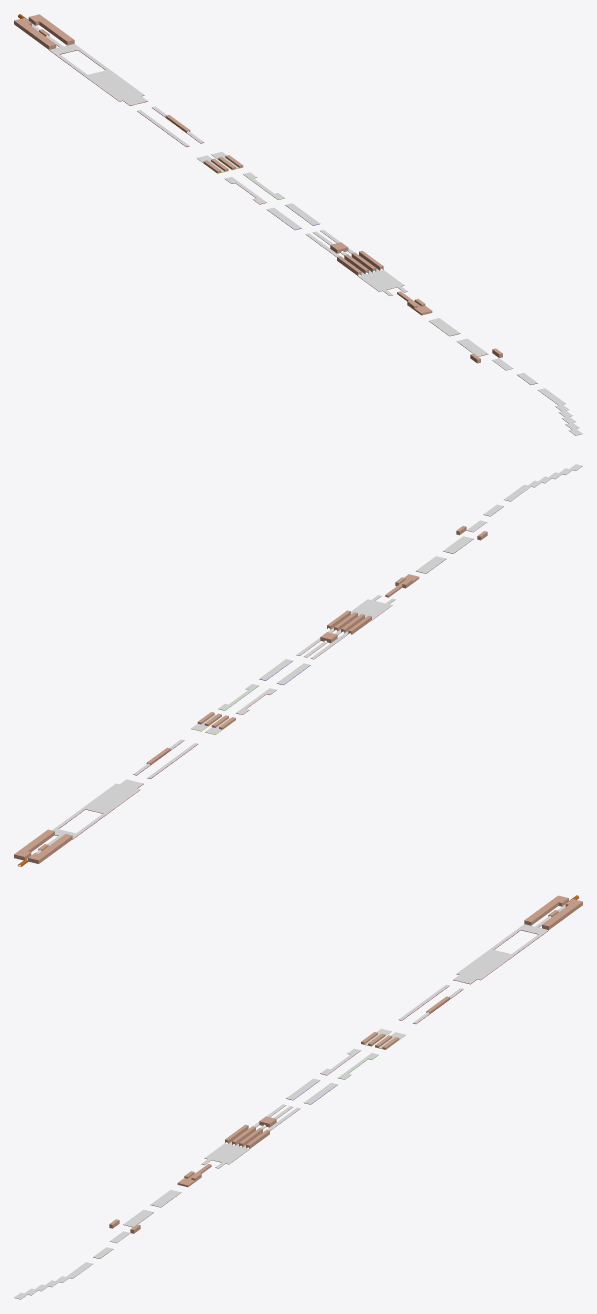
The model's file is Level41.FBX.
3 renders of one model, top to bottom at view 1: azimuth 30°, elevation 25°; view 2: azimuth 150°, elevation 25°; view 3: azimuth 330°, elevation 25°, orthographic. The views are drawn at different scales.
Visible parts, largest first — view 1: basePlatform, Obsticles; view 2: basePlatform, Obsticles; view 3: basePlatform, Obsticles.
Boxes of the visible parts, x1,y1,x2,y2 form: basePlatform: (32,23,582,435); Obsticles: (14,14,502,363); basePlatform: (18,464,582,866); Obsticles: (14,526,487,866); basePlatform: (14,904,565,1299); Obsticles: (109,895,582,1233).
Bounding box in the file's own units: 26.27 × 4.14 × 1012.
